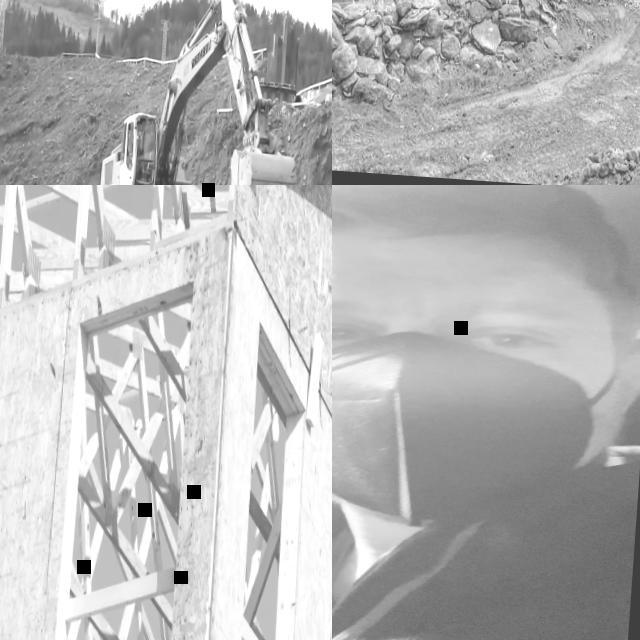machinery: (95, 0, 310, 185)
mask: (332, 322, 619, 535)
no_helmet: (332, 185, 640, 311)
no_vest: (332, 492, 635, 640)
person: (332, 185, 640, 640), (127, 139, 141, 176)
